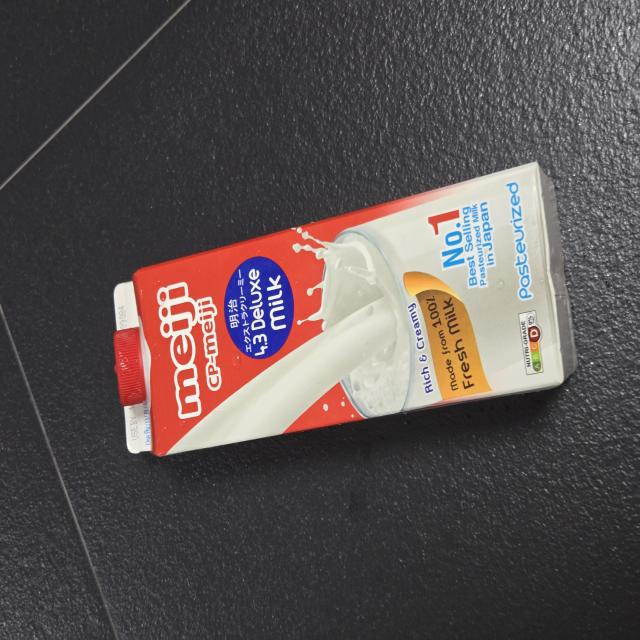milk: (102, 141, 596, 467)
